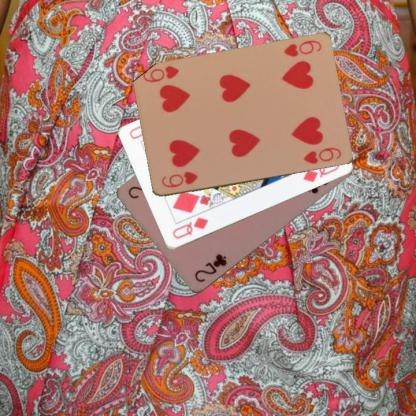2c: (192, 252, 228, 284)
6h: (281, 37, 323, 59), (158, 170, 200, 190)
Qd: (169, 214, 210, 241)
